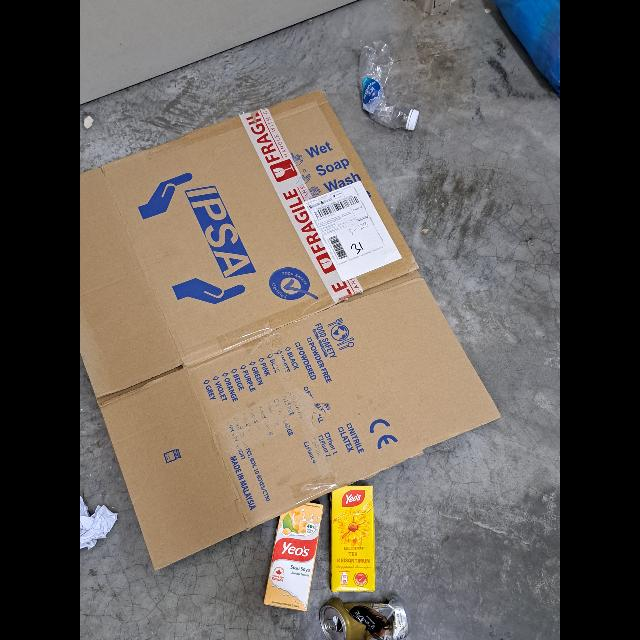aba de lata: (323, 615, 341, 635)
caixinha: (266, 499, 322, 609), (334, 486, 376, 594)
garrafa plástica: (358, 40, 422, 132)
lata: (322, 602, 408, 640)
papel: (80, 491, 118, 554)
papelão: (80, 94, 502, 568)
sacola plástica: (492, 0, 560, 98)
tampa plástica: (403, 107, 421, 131)
